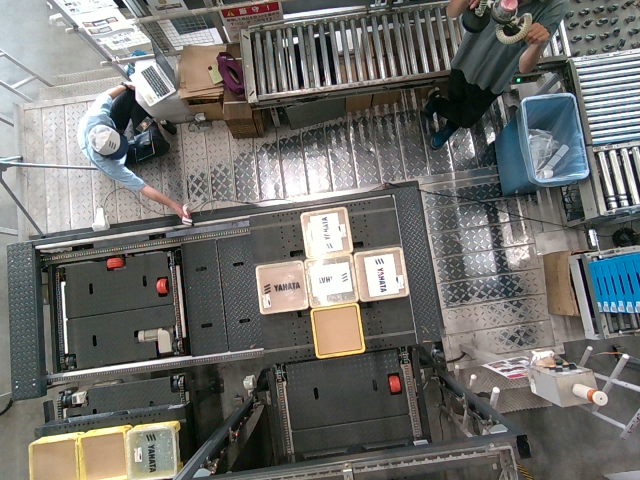box: (298, 206, 352, 254), (254, 264, 308, 312), (302, 258, 356, 306), (353, 251, 407, 299), (308, 307, 362, 355)
